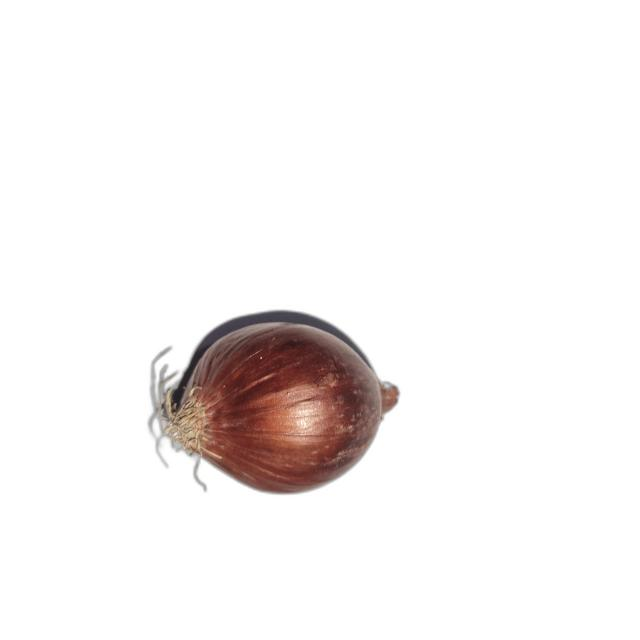onion: (160, 321, 400, 496)
